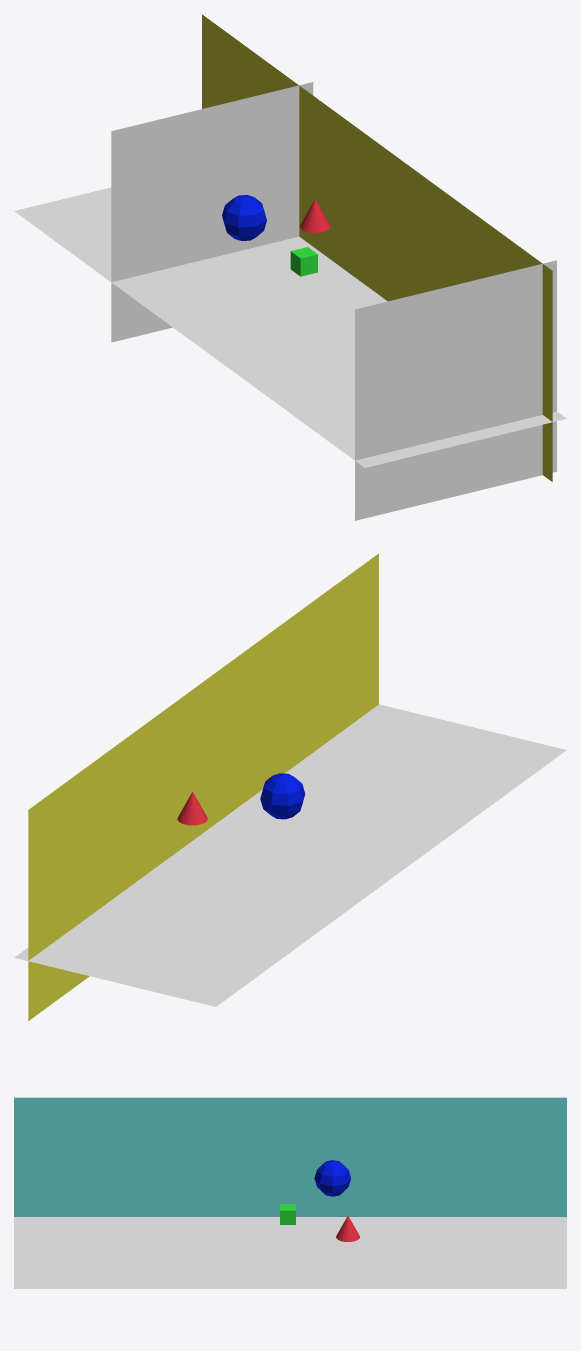
The picture shows the model from 3 angles, top to bottom: view 1: azimuth 30°, elevation 25°; view 2: azimuth 150°, elevation 25°; view 3: azimuth 270°, elevation 25°; orthographic projection. The views are drawn at different scales.
Parts seen in each view (by area): view 1: Plane.005_Plane.006, Plane.003, Plane.000_Plane.004, Plane.002, Sphere, Cube; view 2: Plane.003, Plane.000_Plane.004, Sphere; view 3: Plane.001, Plane.003, Sphere, Cone.001, Cube.
Boxes of the visible parts, x1=… form: Plane.005_Plane.006: x1=355, y1=260, x2=556, y2=520; Plane.003: x1=14, y1=187, x2=566, y2=467; Plane.000_Plane.004: x1=202, y1=14, x2=552, y2=481; Plane.002: x1=111, y1=82, x2=313, y2=342; Sphere: x1=222, y1=195, x2=266, y2=240; Cube: x1=290, y1=247, x2=317, y2=276; Plane.003: x1=14, y1=704, x2=566, y2=1006; Plane.000_Plane.004: x1=28, y1=553, x2=378, y2=1020; Sphere: x1=260, y1=773, x2=305, y2=819; Plane.001: x1=14, y1=1097, x2=566, y2=1216; Plane.003: x1=14, y1=1217, x2=566, y2=1288; Sphere: x1=314, y1=1160, x2=350, y2=1196; Cone.001: x1=336, y1=1215, x2=359, y2=1241; Cube: x1=280, y1=1204, x2=295, y2=1224.
Size of the model in its own units: 23.26 by 23.26 by 70.
